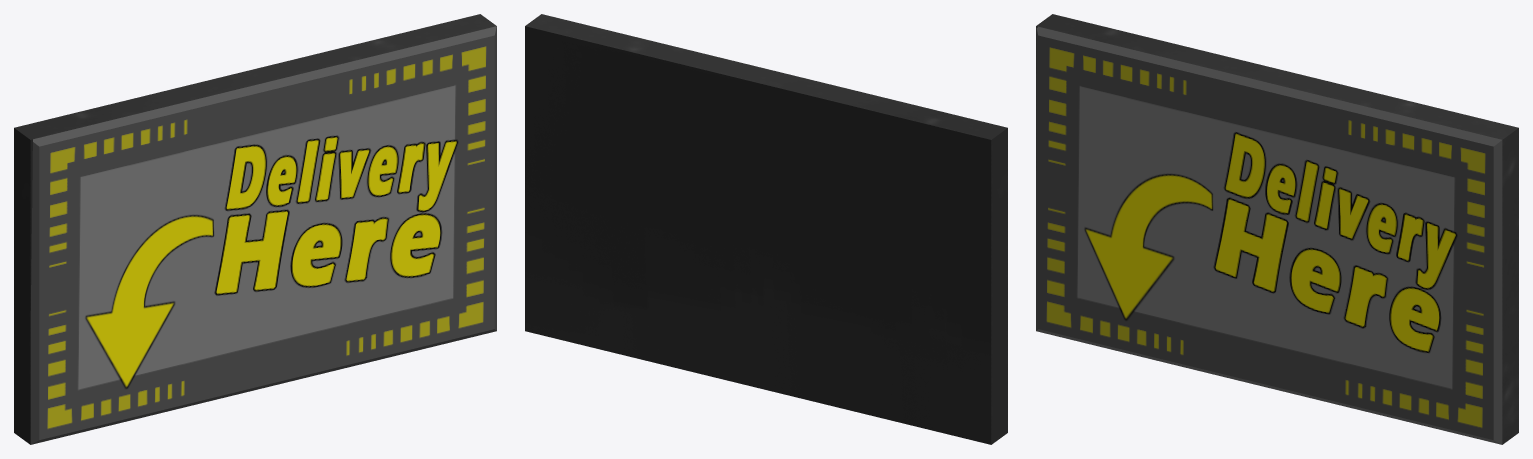
File: Delivery Sign.fbx
3 renders of one model, left to right at view 1: azimuth 30°, elevation 25°; view 2: azimuth 150°, elevation 25°; view 3: azimuth 330°, elevation 25°, orthographic.
Parts seen in each view (by area): view 1: Delivery Sign; view 2: Delivery Sign; view 3: Delivery Sign.
Boxes of the visible parts, left/top/right/bottom form: Delivery Sign: left=14, top=14, right=496, bottom=444; Delivery Sign: left=525, top=14, right=1007, bottom=444; Delivery Sign: left=1036, top=14, right=1518, bottom=444.
Size of the model in its own units: 3.2 by 0.2345 by 2.
